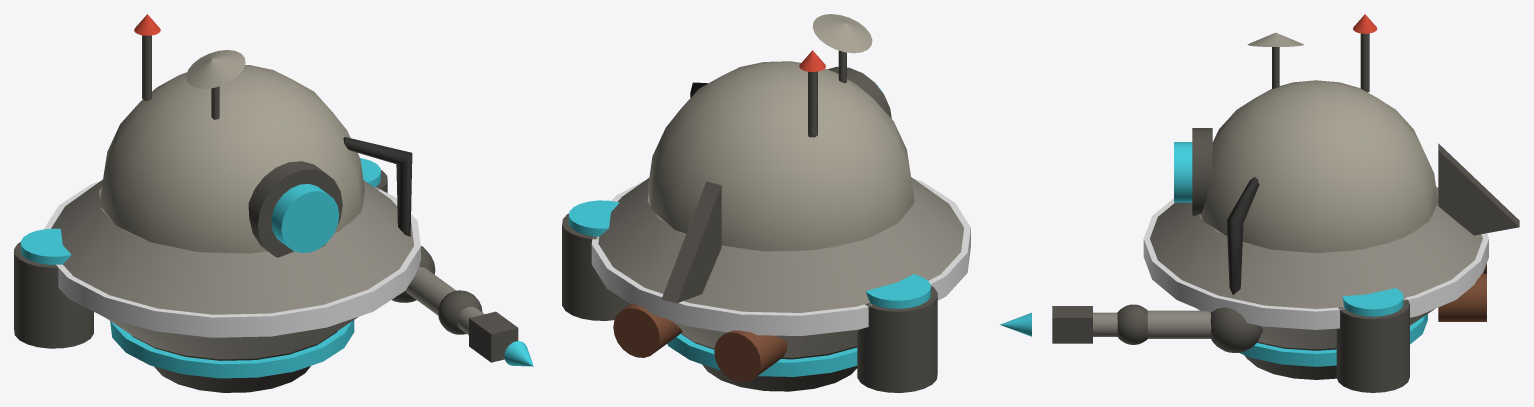
3 renders of one model, left to right at view 1: azimuth 30°, elevation 25°; view 2: azimuth 150°, elevation 25°; view 3: azimuth 270°, elevation 25°, orthographic. The views are drawn at different scales.
Visible parts, largest first — view 1: dweller_robot_drone; view 2: dweller_robot_drone; view 3: dweller_robot_drone.
Part boxes in pixels (box(x1,y1,x2,y2)): dweller_robot_drone: box(14, 14, 533, 392); dweller_robot_drone: box(562, 14, 970, 392); dweller_robot_drone: box(1000, 14, 1519, 392).
Bounding box in the file's own units: 0.94 × 0.84 × 1.28.
